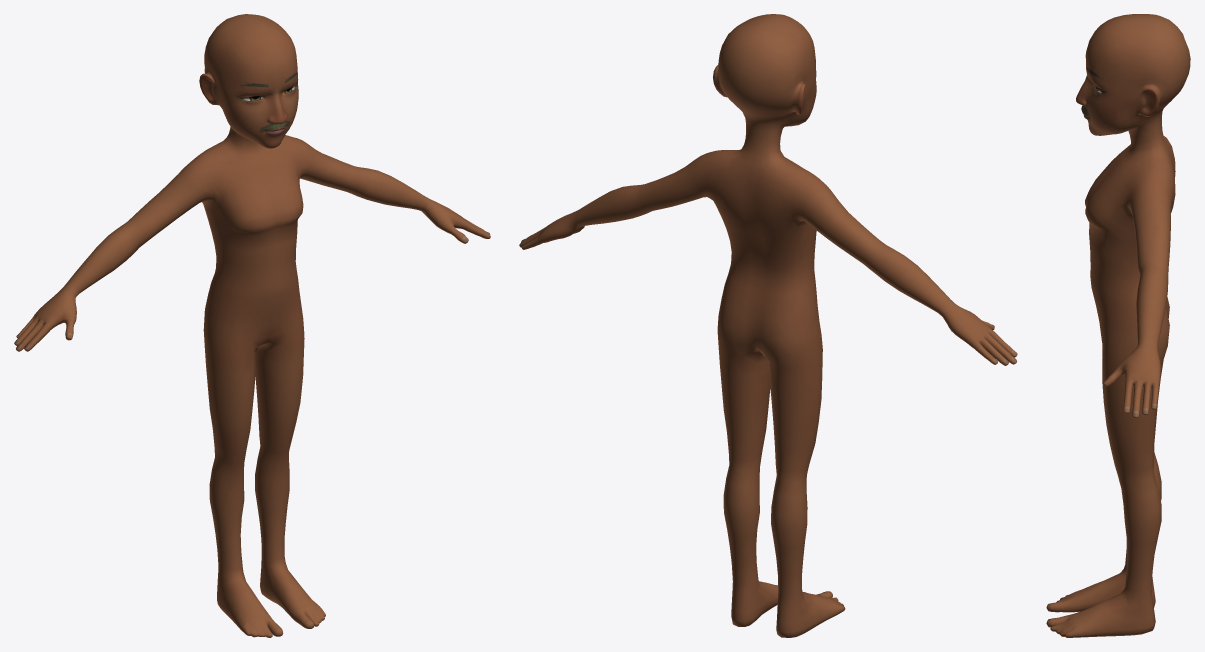
File: frame_0080.glb
The picture shows the model from 3 angles, left to right: view 1: azimuth 30°, elevation 25°; view 2: azimuth 150°, elevation 25°; view 3: azimuth 270°, elevation 25°; orthographic projection. The views are drawn at different scales.
Parts seen in each view (by area): view 1: frame_0080_head_geo; view 2: frame_0080_head_geo; view 3: frame_0080_head_geo.
Part boxes in pixels (x1,y1,x2,y2): frame_0080_head_geo: (14, 14, 490, 637); frame_0080_head_geo: (519, 14, 1017, 637); frame_0080_head_geo: (1046, 14, 1190, 637).
Bounding box in the file's own units: 1.28 × 1.5 × 0.3253.
Materials: 3 (3 with a texture image).
